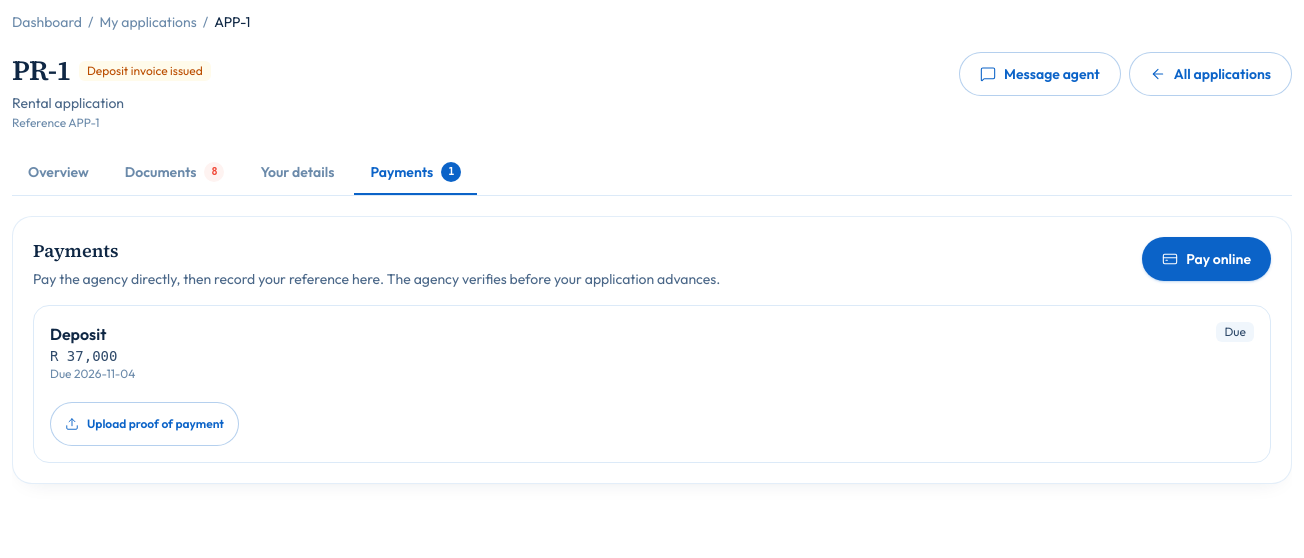
Test: tenant application page: open checkout uses live, own rows only › C3: rows exist on the application but none are the applicant's: copy, no Pay button, nothing invented
Click the button "Pay online".
click(1207, 259)  # box left=1142, top=237, right=1271, bottom=281
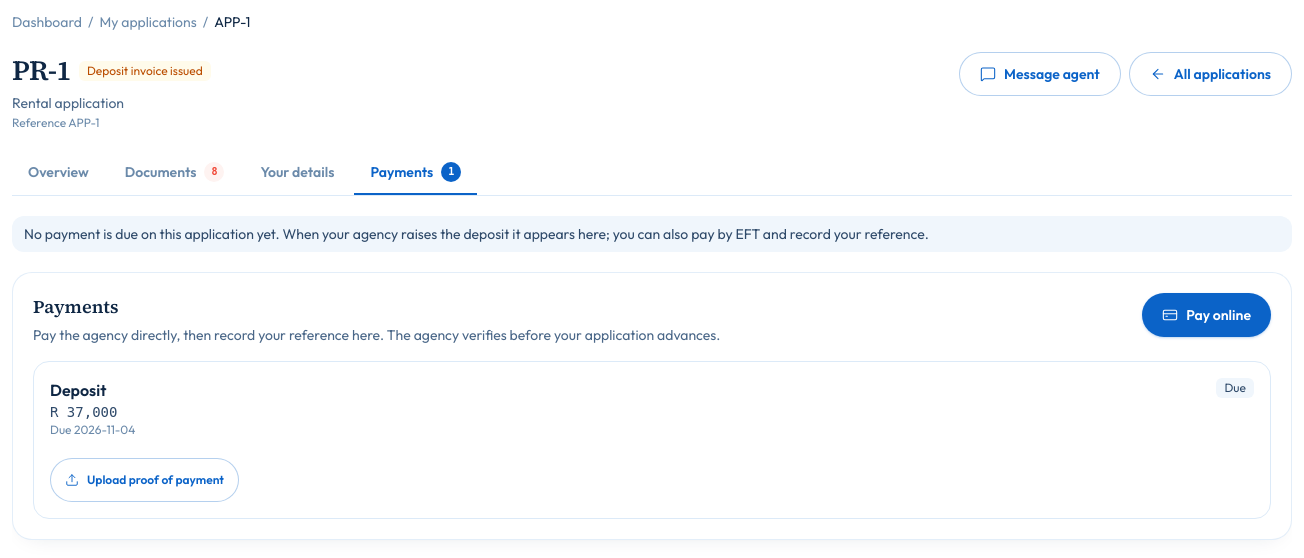
Now the element with test id "tenant-checkout" shows "No payment is due on this application yet. When your agency raises the deposit it appears here; you can also pay by EFT and record your reference.", box left=24, top=225, right=929, bottom=243
